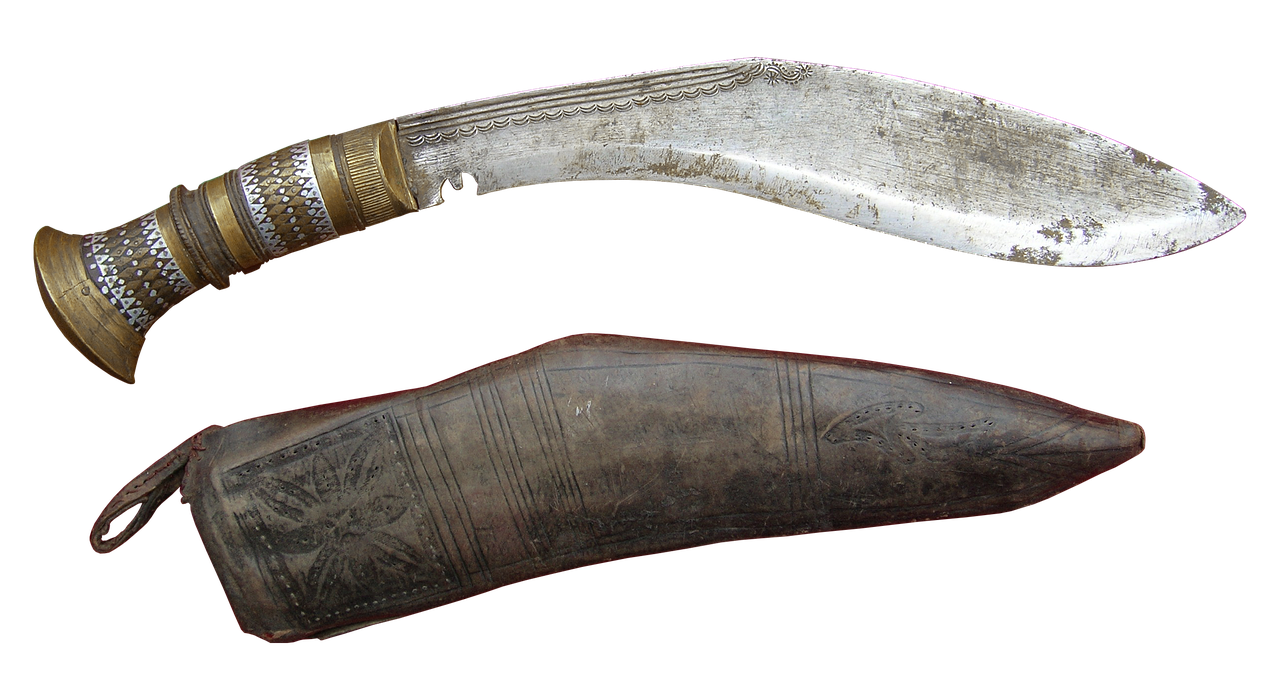knife: (24, 45, 1251, 405)
